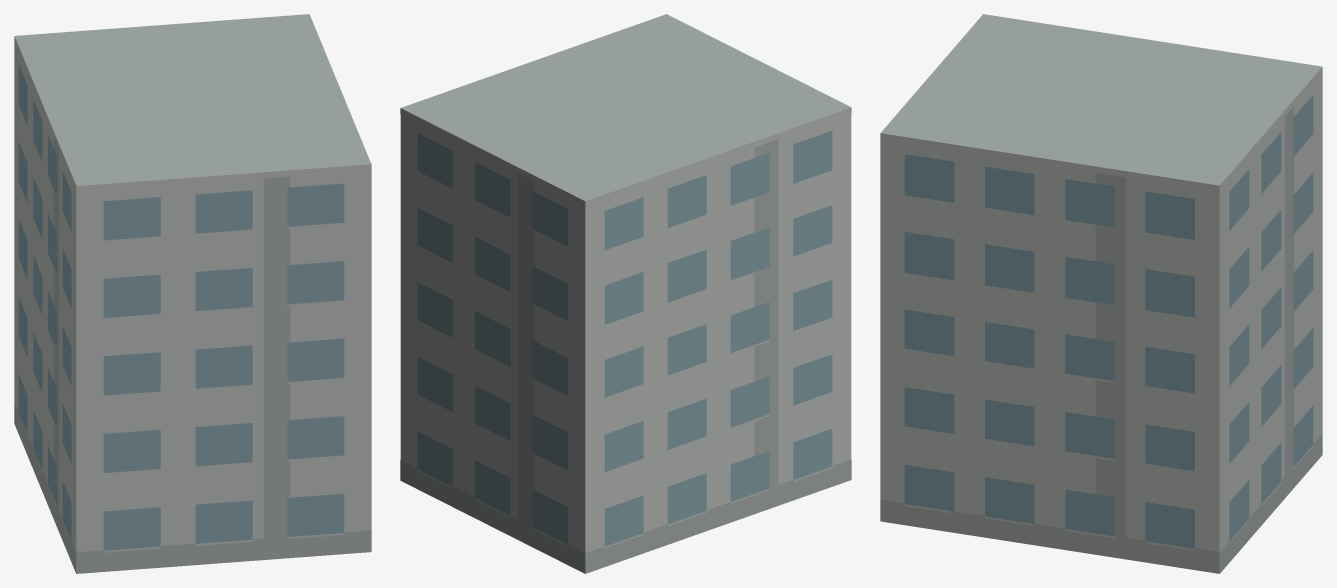
Rendered from residential-5577c842-c87a-4906-b234-0f4ea8fa50c7.glb.
The picture shows the model from 3 angles, left to right: view 1: azimuth 30°, elevation 25°; view 2: azimuth 150°, elevation 25°; view 3: azimuth 270°, elevation 25°; orthographic projection. The views are drawn at different scales.
Visible parts, largest first — view 1: residential-5577c842-c87a-4906-b234-0f4ea8fa50c7.tmp; view 2: residential-5577c842-c87a-4906-b234-0f4ea8fa50c7.tmp; view 3: residential-5577c842-c87a-4906-b234-0f4ea8fa50c7.tmp.
Boxes of the visible parts, x1,y1,x2,y2 form: residential-5577c842-c87a-4906-b234-0f4ea8fa50c7.tmp: (14, 14, 371, 573); residential-5577c842-c87a-4906-b234-0f4ea8fa50c7.tmp: (400, 14, 851, 573); residential-5577c842-c87a-4906-b234-0f4ea8fa50c7.tmp: (880, 14, 1322, 573).
Bounding box in the file's own units: 14.47 × 15.25 × 15.75.
